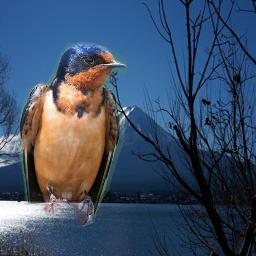Swallow: (19, 42, 127, 227)
